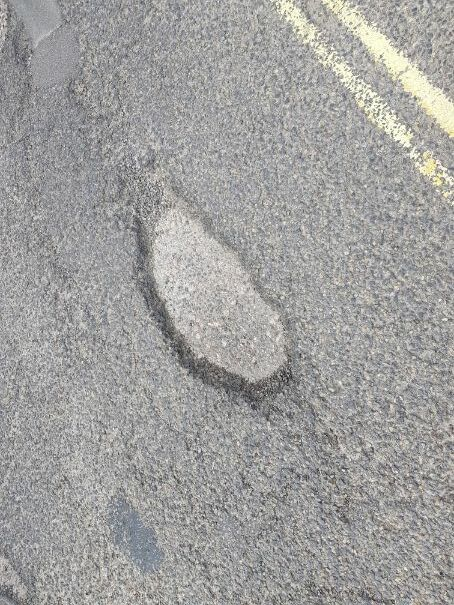pothole: (125, 156, 303, 408)
